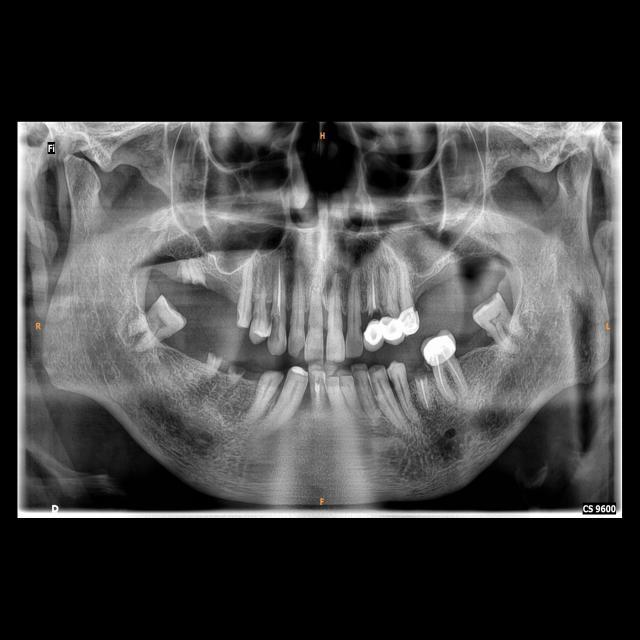dentin-curugu: (269, 313, 283, 357)
kanal-tedavisi: (271, 256, 287, 318), (436, 364, 466, 395), (368, 268, 378, 312), (418, 378, 430, 412)
kaplama: (421, 333, 457, 363), (382, 314, 403, 344), (365, 318, 383, 348), (402, 305, 419, 333)
kirik: (228, 356, 250, 385), (409, 368, 432, 387), (208, 344, 222, 374)
kok-enfeksiyonu: (435, 421, 462, 463)
